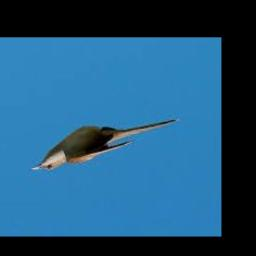Cuckoo: (30, 118, 178, 171)
